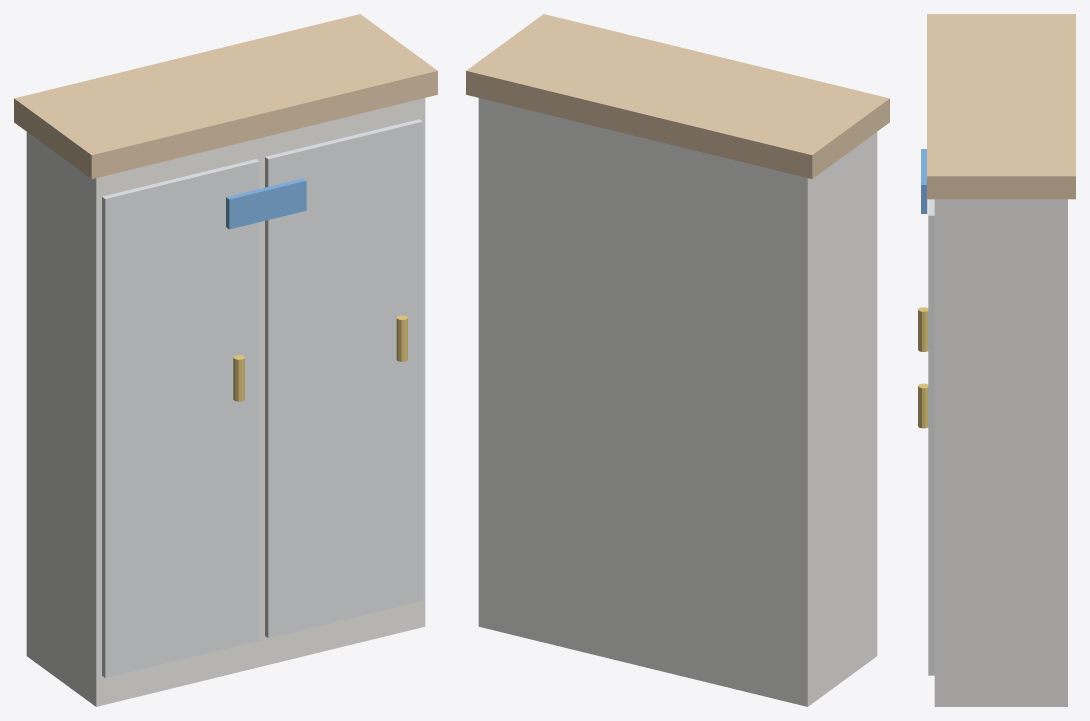
The model's file is storage_cabinet.glb.
3 views of the same model, side by side, from view 1: azimuth 30°, elevation 25°; view 2: azimuth 150°, elevation 25°; view 3: azimuth 270°, elevation 25° (orthographic). The views are drawn at different scales.
Parts seen in each view (by area): view 1: door_0, door_1, cabinet_body, cabinet_top, label_plate; view 2: cabinet_body, cabinet_top; view 3: cabinet_body, cabinet_top, door_1, handle_1, handle_0, label_plate.
Boxes of the visible parts, x1,y1,x2,y2 form: door_0: [102, 159, 259, 677]; door_1: [265, 119, 422, 638]; cabinet_body: [26, 98, 425, 706]; cabinet_top: [14, 14, 437, 178]; label_plate: [226, 178, 306, 229]; cabinet_body: [478, 98, 877, 706]; cabinet_top: [466, 14, 889, 178]; cabinet_body: [934, 199, 1067, 706]; cabinet_top: [927, 14, 1075, 199]; door_1: [928, 199, 934, 675]; handle_1: [918, 383, 928, 428]; handle_0: [918, 307, 928, 351]; label_plate: [921, 149, 927, 213].
Bounding box in the file's own units: 1.21 × 1.86 × 0.498.
